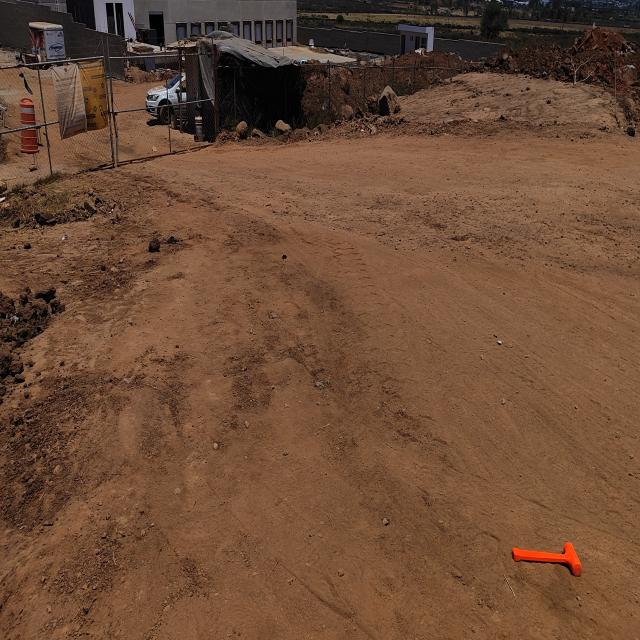Orange_hammer: (511, 540, 582, 578)
